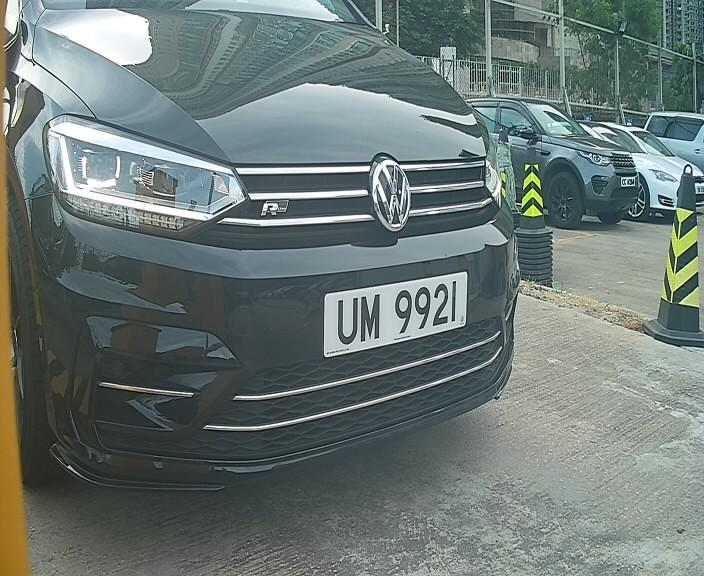privatecar: (1, 21, 560, 479)
